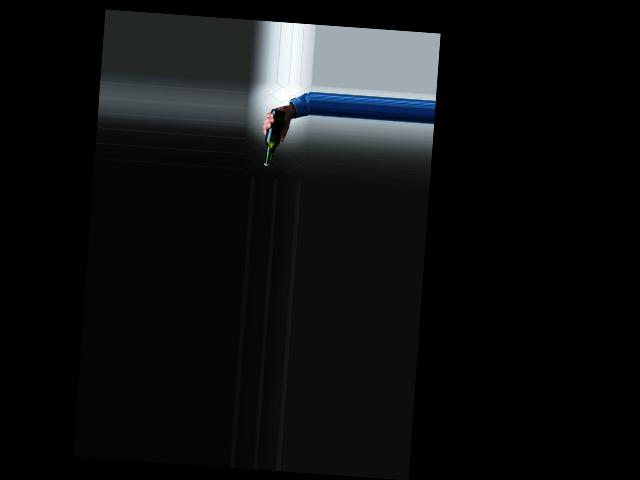beer: (263, 108, 286, 167)
